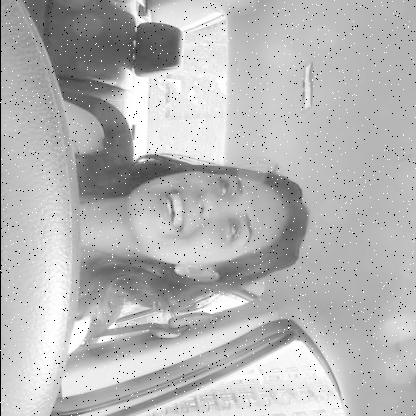no_seatbelt: (70, 142, 328, 348)
